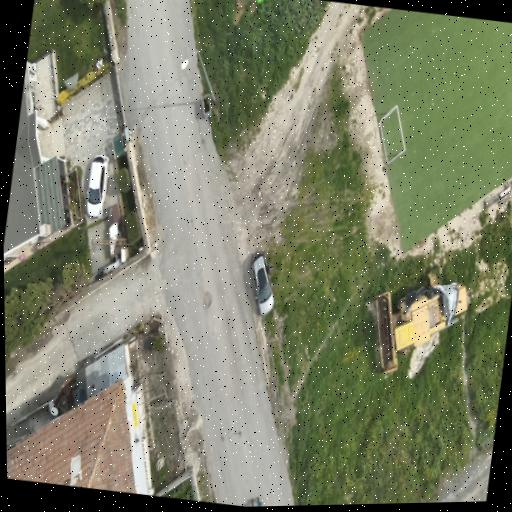car: (251, 252, 274, 315), (87, 155, 109, 218)
harvester: (374, 274, 467, 374)
person: (268, 264, 272, 273), (257, 498, 262, 505), (251, 500, 254, 506)
